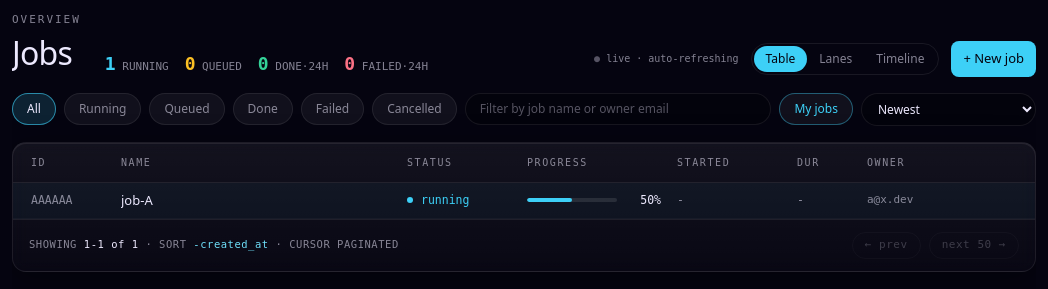
Scenario: a trailing space in the raw input does not leave the pager disabled forever
Expected: the link "job-A" is shown, [121,190,153,210]
Type "etl " into the search field. click: [618, 109]
box: [465,93,771,125]
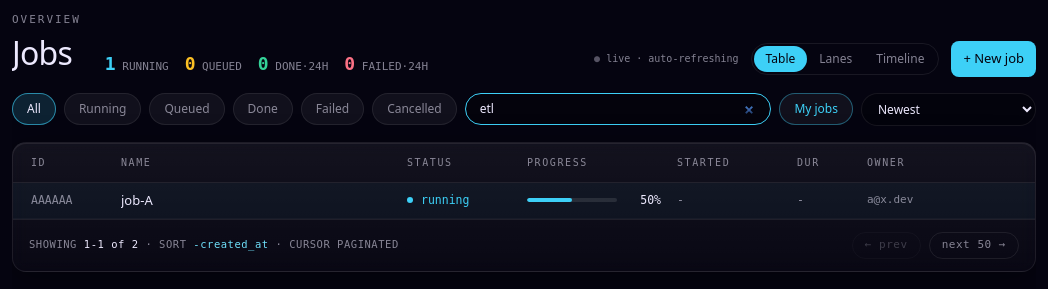
Result: the button "next 50 →" is enabled at [929,232,1019,258]
